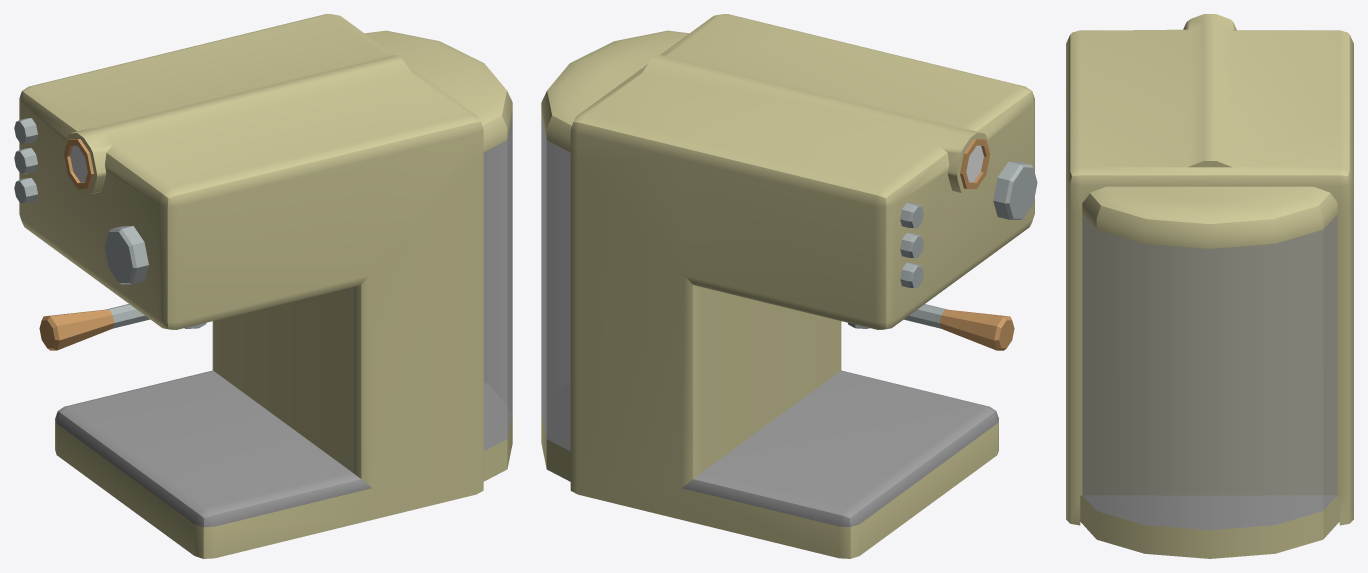
File: SM_Coffee_Machine.fbx
The picture shows the model from 3 angles, left to right: view 1: azimuth 30°, elevation 25°; view 2: azimuth 150°, elevation 25°; view 3: azimuth 270°, elevation 25°; orthographic projection. The views are drawn at different scales.
Parts seen in each view (by area): view 1: polySurface51; view 2: polySurface51; view 3: polySurface51.
Part boxes in pixels (<box>): polySurface51: <box>14,14,512,558</box>; polySurface51: <box>541,14,1037,558</box>; polySurface51: <box>1066,14,1353,558</box>.
Size of the model in its own units: 0.5498 by 0.453 by 0.3294.
